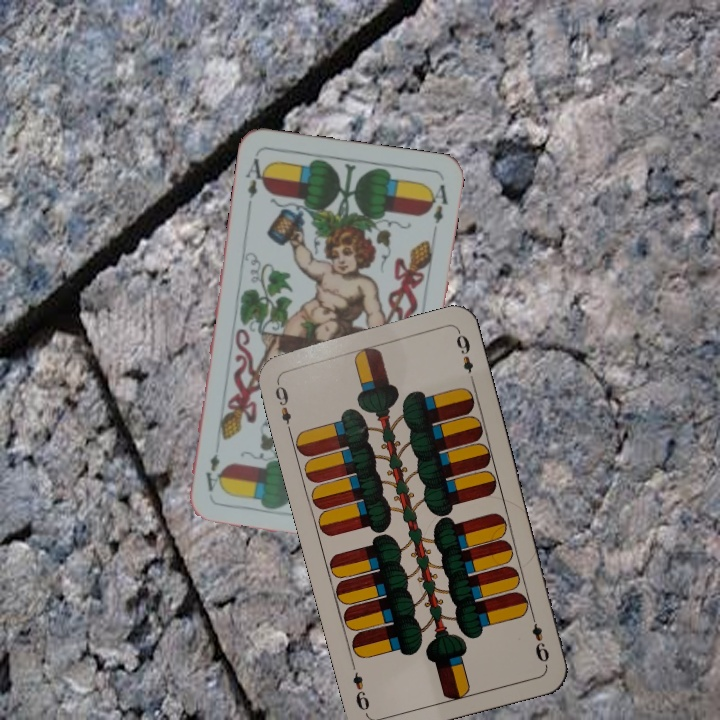E9: (527, 609, 552, 668), (271, 377, 294, 435)
EA: (242, 154, 270, 201)
